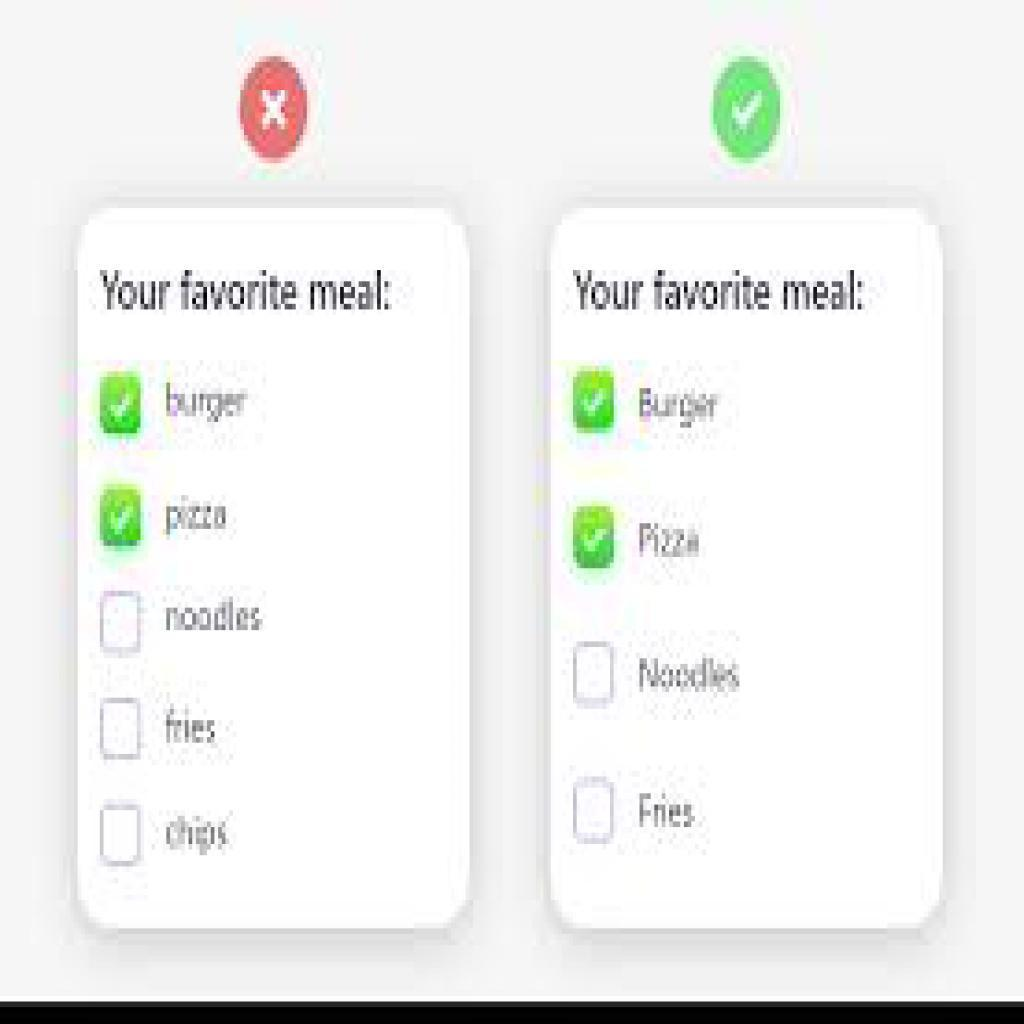checkbox: (100, 588, 143, 657), (574, 778, 616, 847), (99, 373, 144, 437), (571, 507, 617, 568), (100, 700, 145, 761), (100, 490, 144, 550), (574, 641, 614, 707), (100, 804, 141, 867), (574, 370, 615, 430)
label: (165, 592, 266, 643), (635, 655, 743, 700), (634, 384, 727, 432), (162, 378, 254, 425), (162, 491, 235, 543), (162, 810, 234, 860), (635, 517, 707, 566), (632, 787, 701, 837), (164, 701, 221, 751)
